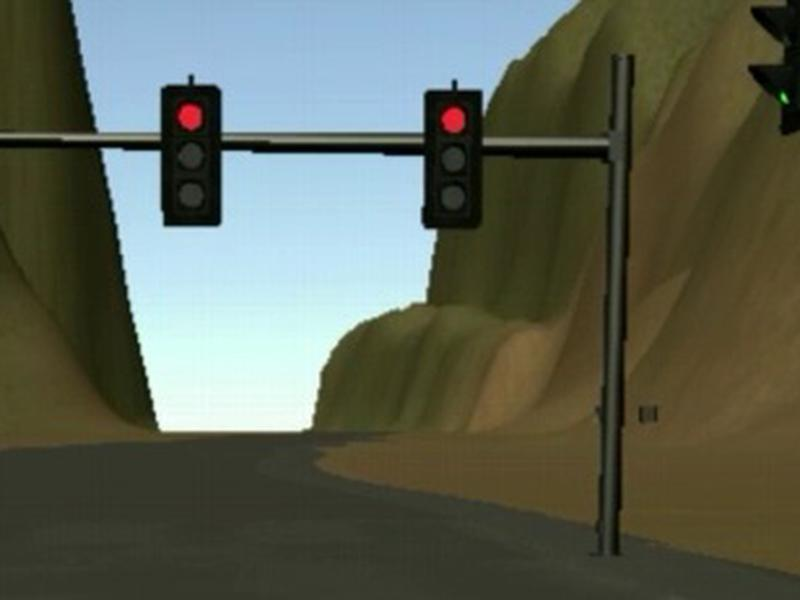Red: (421, 89, 483, 228), (161, 84, 219, 226)
